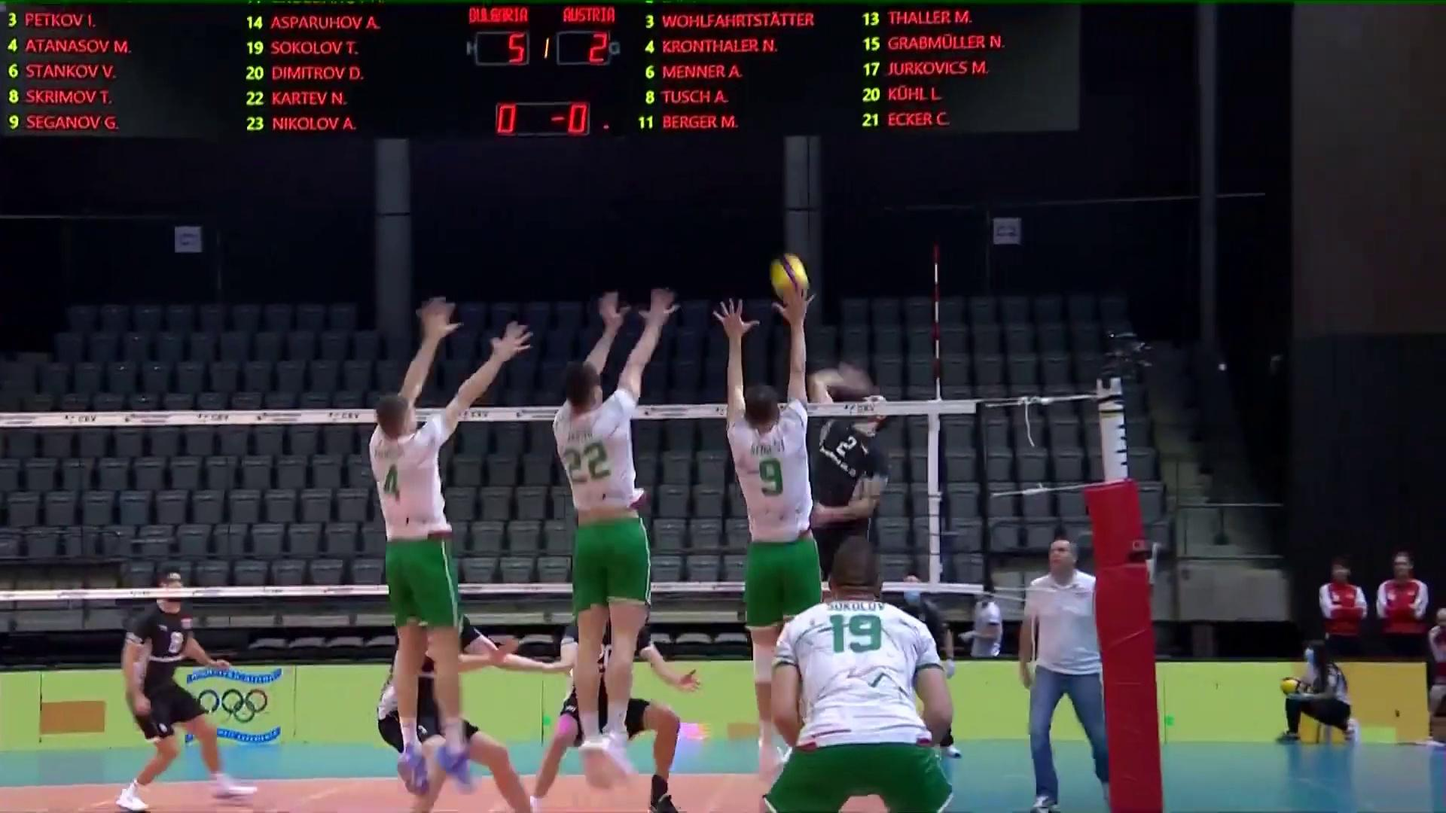ball: (768, 250, 809, 294)
